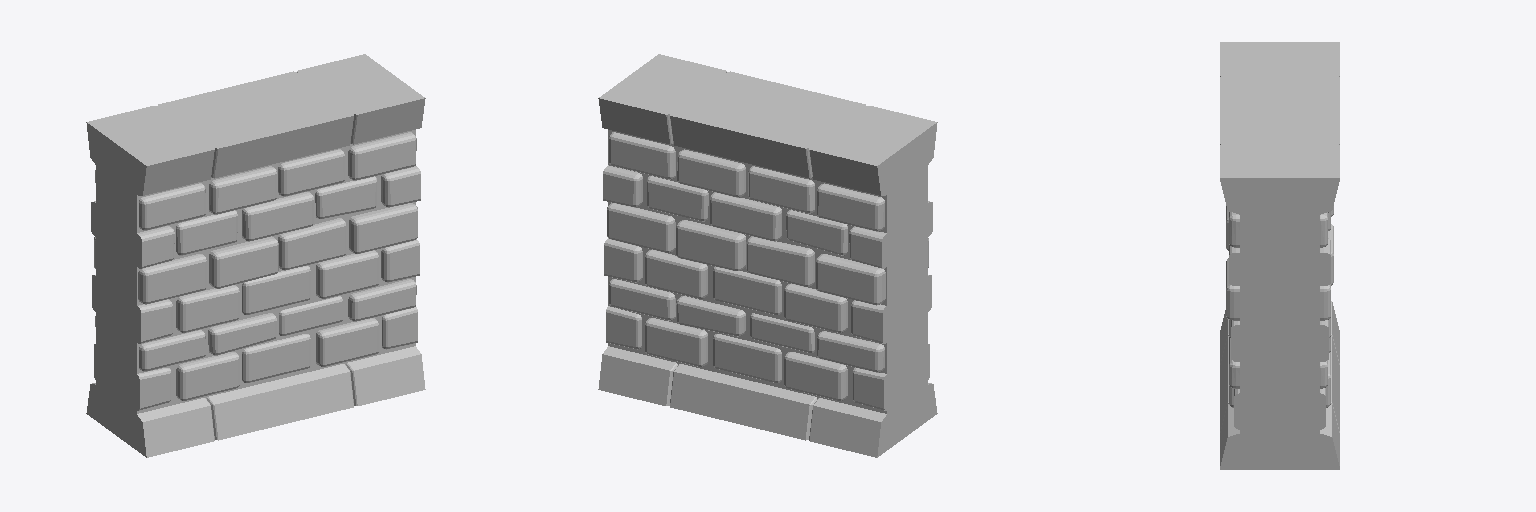
Rendered from wall.obj.
3 renders of one model, left to right at view 1: azimuth 30°, elevation 25°; view 2: azimuth 150°, elevation 25°; view 3: azimuth 270°, elevation 25°, orthographic.
Parts seen in each view (by area): view 1: wall_Cube.2612; view 2: wall_Cube.2612; view 3: wall_Cube.2612.
Part boxes in pixels (bbox=[...]): wall_Cube.2612: bbox=[86, 54, 425, 457]; wall_Cube.2612: bbox=[598, 54, 937, 457]; wall_Cube.2612: bbox=[1220, 42, 1339, 469].
Size of the model in its own units: 4 by 4 by 1.5.